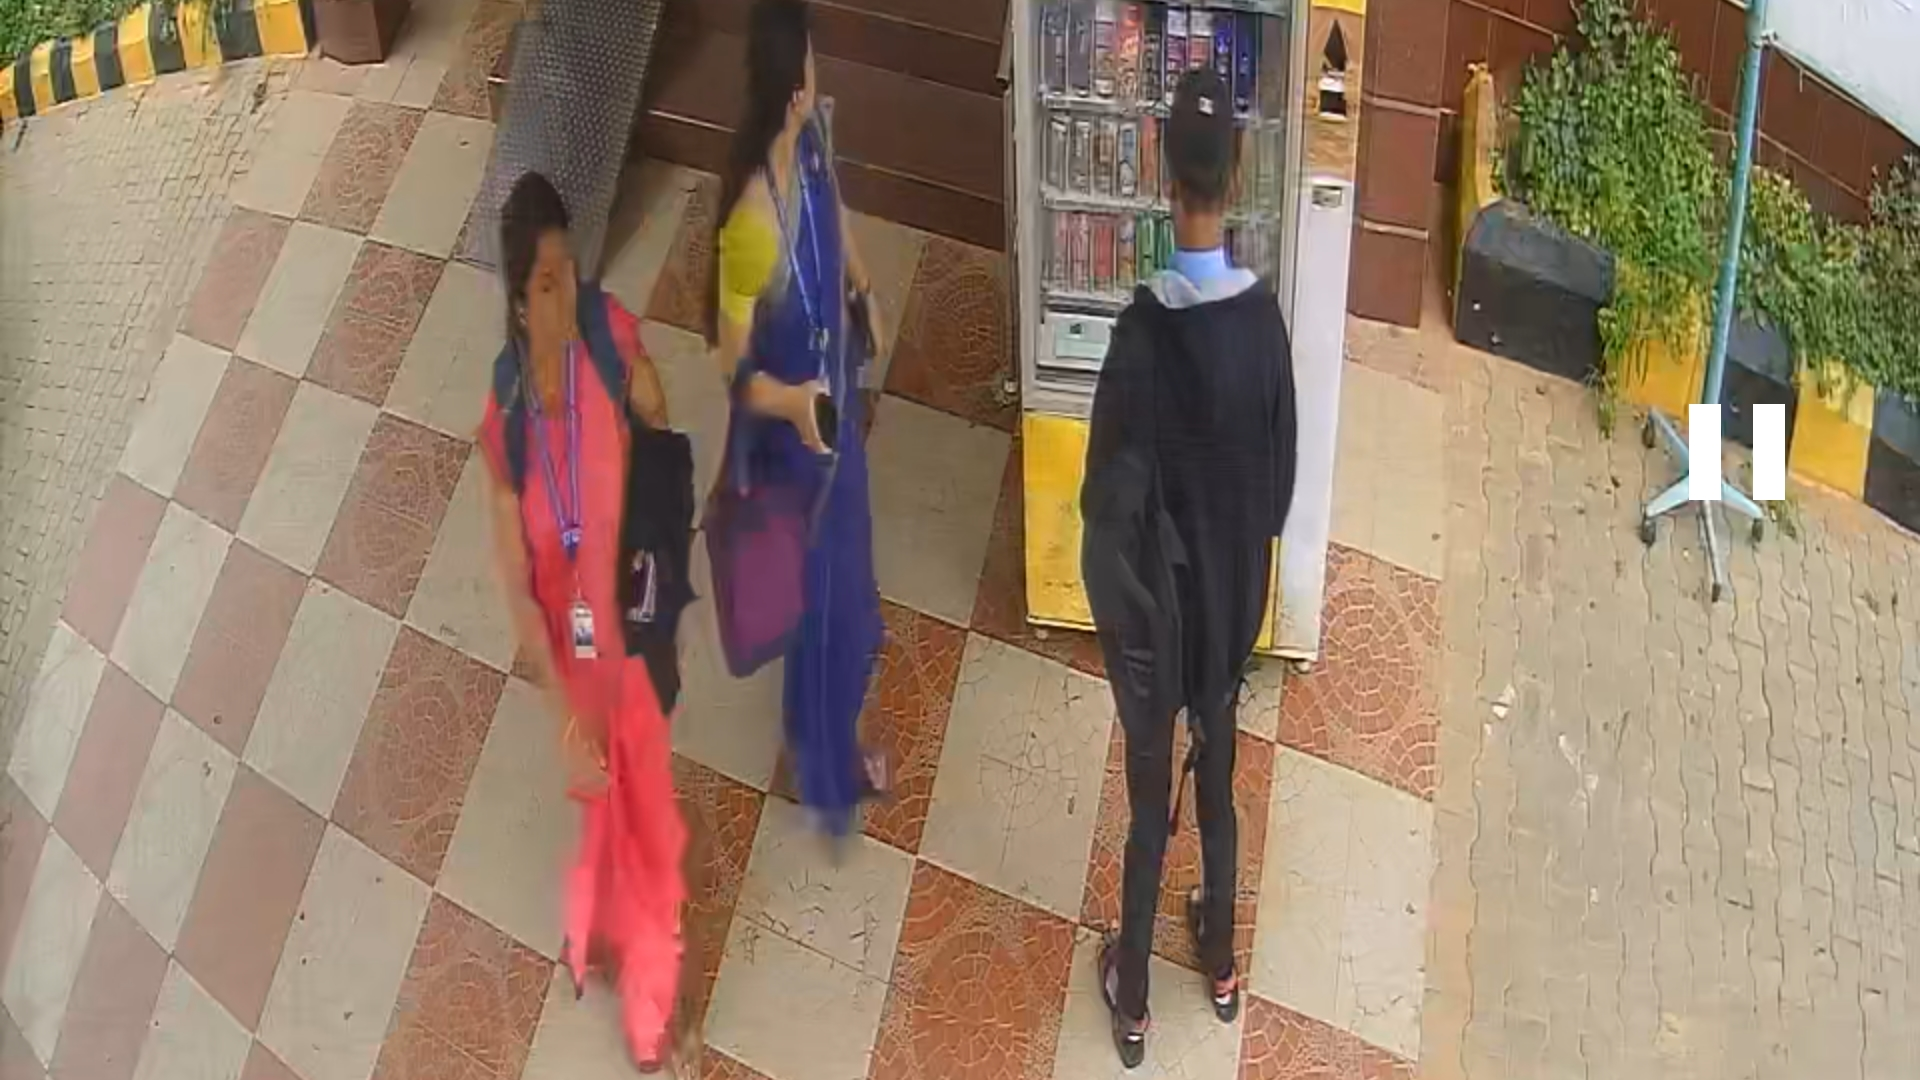not intruder: (694, 1, 939, 804), (471, 185, 705, 1011)
